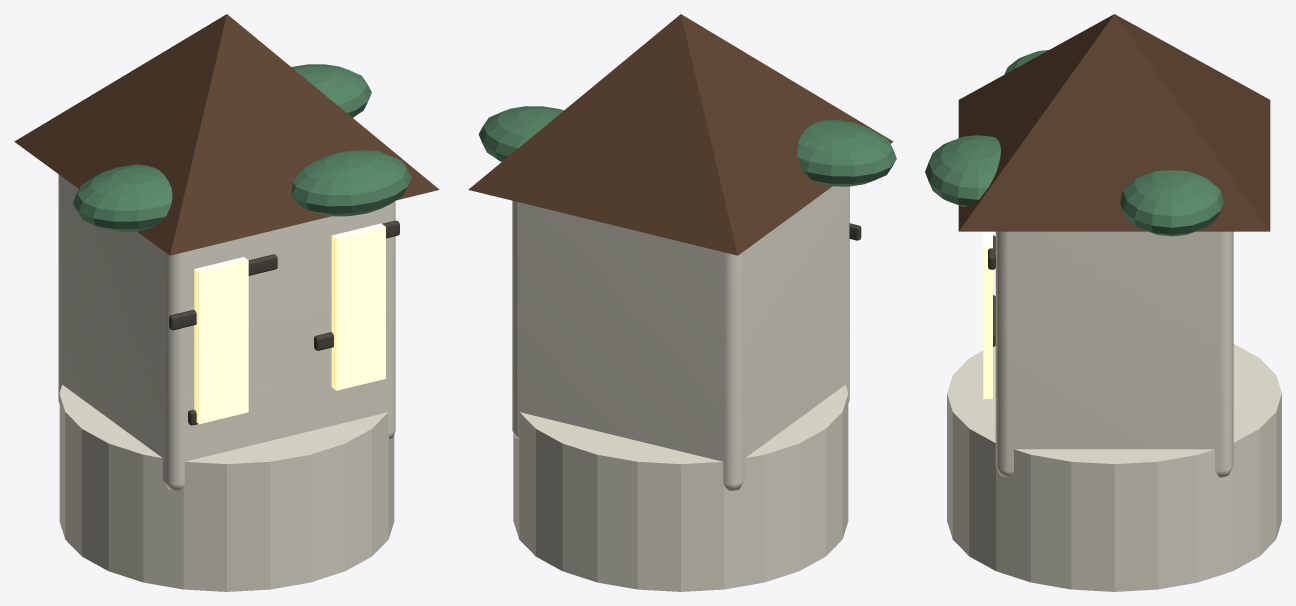
File: finland-birch-lamp.glb
3 renders of one model, left to right at view 1: azimuth 30°, elevation 25°; view 2: azimuth 150°, elevation 25°; view 3: azimuth 270°, elevation 25°, orthographic.
Parts seen in each view (by area): view 1: しらかばの からだ, しらかばの だい, こやの やね, やわらかな ひかり.001, やわらかな ひかり, やねの こけ.002, やねの こけ, やねの こけ.001; view 2: しらかばの からだ, こやの やね, しらかばの だい, やねの こけ, やねの こけ.001; view 3: しらかばの からだ, しらかばの だい, こやの やね, やねの こけ.001, やねの こけ.002, やわらかな ひかり.001.
Part boxes in pixels (bbox=[...]): しらかばの からだ: bbox=[58, 174, 395, 490]; しらかばの だい: bbox=[59, 385, 394, 591]; こやの やね: bbox=[14, 14, 439, 255]; やわらかな ひかり.001: bbox=[331, 223, 385, 390]; やわらかな ひかり: bbox=[194, 257, 248, 424]; やねの こけ.002: bbox=[291, 150, 411, 216]; やねの こけ: bbox=[72, 164, 172, 231]; やねの こけ.001: bbox=[291, 64, 371, 117]; しらかばの からだ: bbox=[512, 186, 849, 490]; こやの やね: bbox=[468, 14, 893, 255]; しらかばの だい: bbox=[513, 385, 848, 591]; やねの こけ: bbox=[797, 119, 896, 186]; やねの こけ.001: bbox=[478, 106, 563, 161]; しらかばの からだ: bbox=[995, 231, 1233, 477]; しらかばの だい: bbox=[947, 344, 1281, 591]; こやの やね: bbox=[958, 14, 1270, 231]; やねの こけ.001: bbox=[1120, 170, 1223, 236]; やねの こけ.002: bbox=[925, 135, 1000, 206]; やわらかな ひかり.001: bbox=[983, 231, 992, 398].
Bounding box in the file's own units: 0.91 × 1.27 × 0.81.
